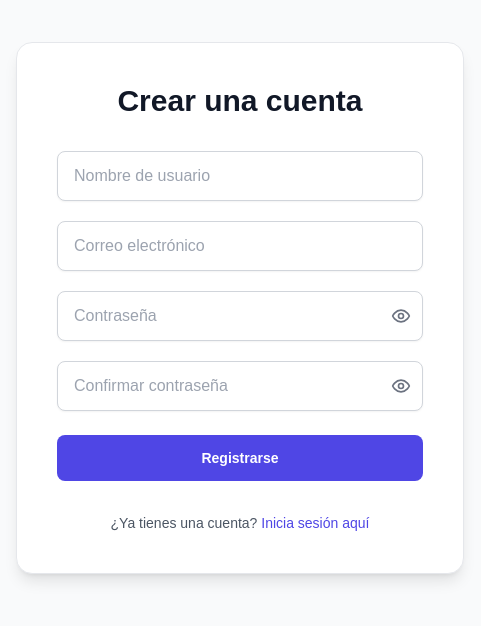
Test case: RegisterPage › shows error when passwords do not match
Type "Ash" into the field with placeholder "Nombre de usuario" at (240, 176), box [57,151,423,201]
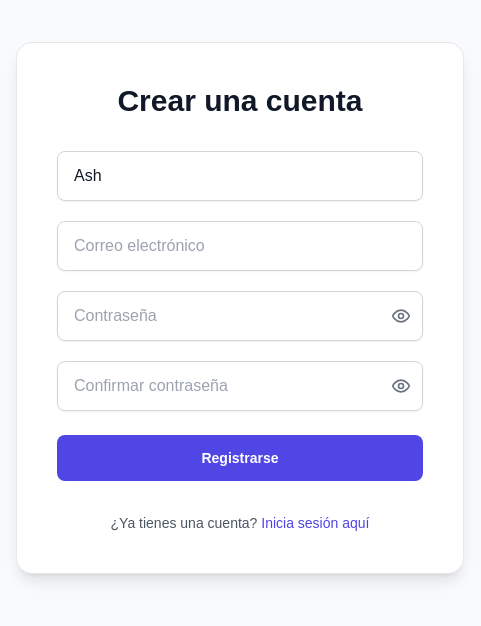
Type "ash@example.com" into the field with placeholder "Correo electrónico" at (240, 246), box [57,221,423,271]
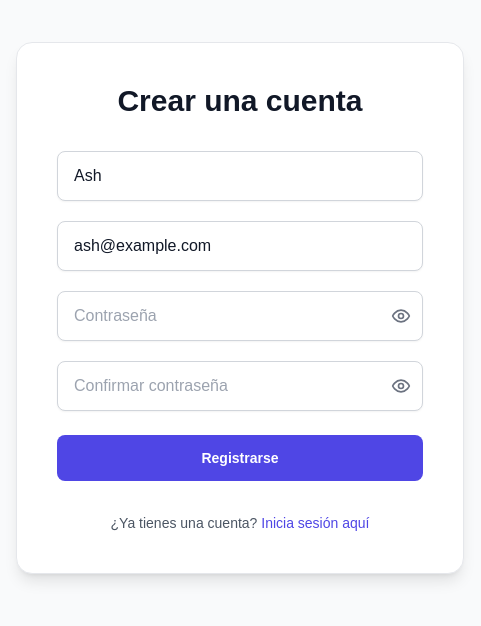
Type "Password1!" into the password field with placeholder "Contraseña" at (240, 316), box [57,291,423,341]
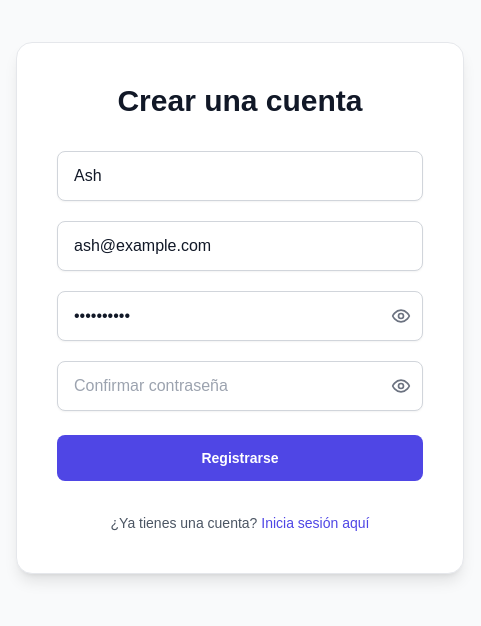
Type "Different1!" into the password field with placeholder "Confirmar contraseña" at (240, 386), box [57,361,423,411]
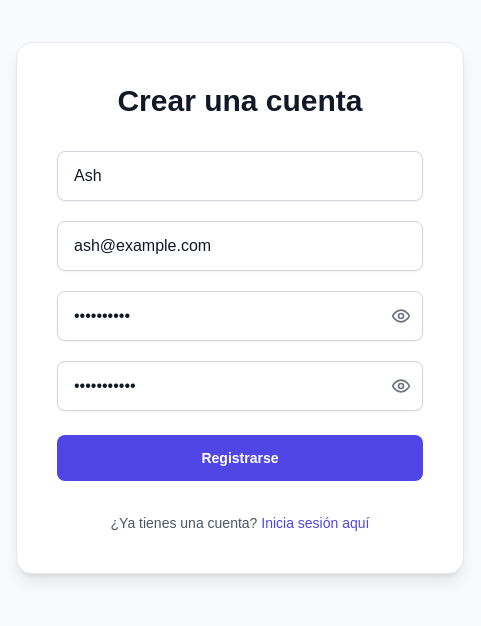
Click the button "Registrarse" at (240, 458), box [57,435,423,481]
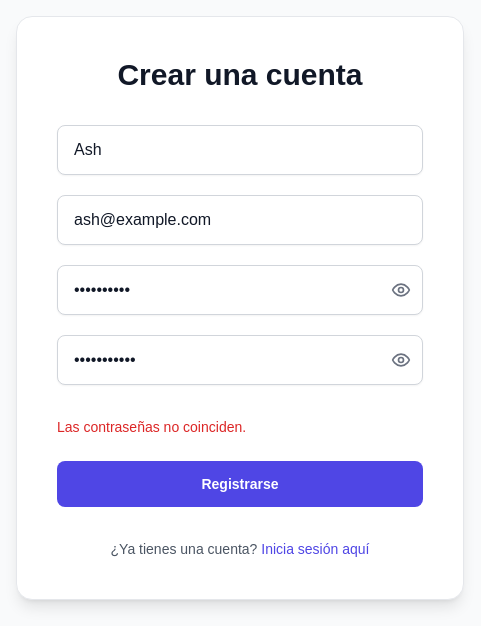
Result: the text "Las contraseñas no coinciden." is shown at [57,419,246,435]
